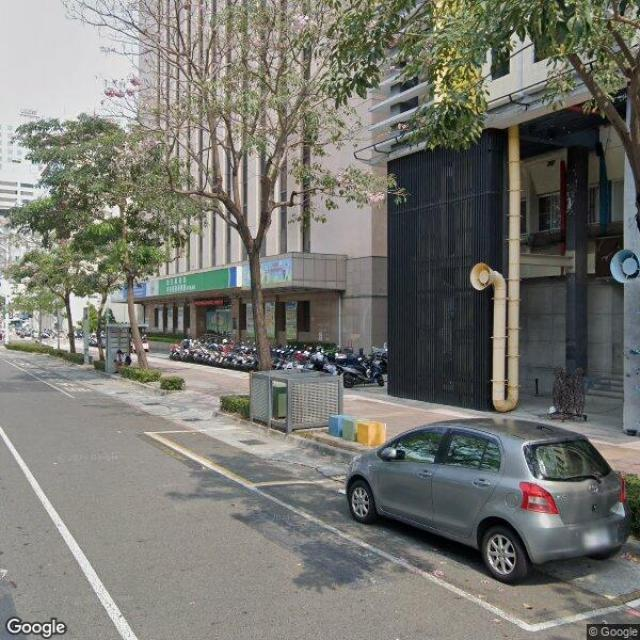Legalparking: (346, 418, 629, 582), (170, 327, 388, 391)
